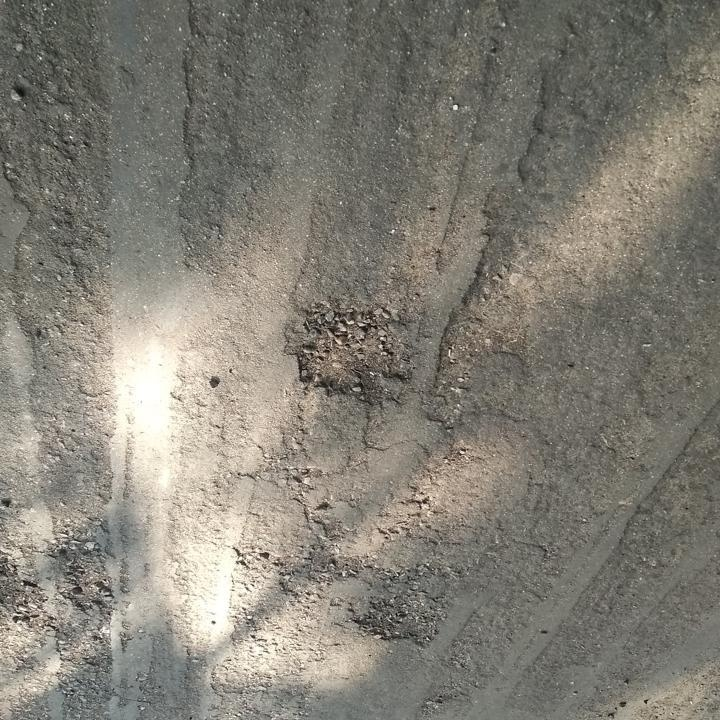pothole: (282, 298, 417, 407), (347, 586, 449, 647)
